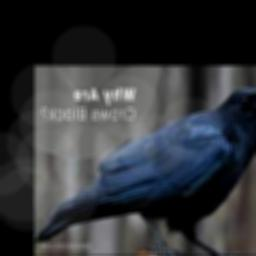Crow: (35, 88, 256, 254)
